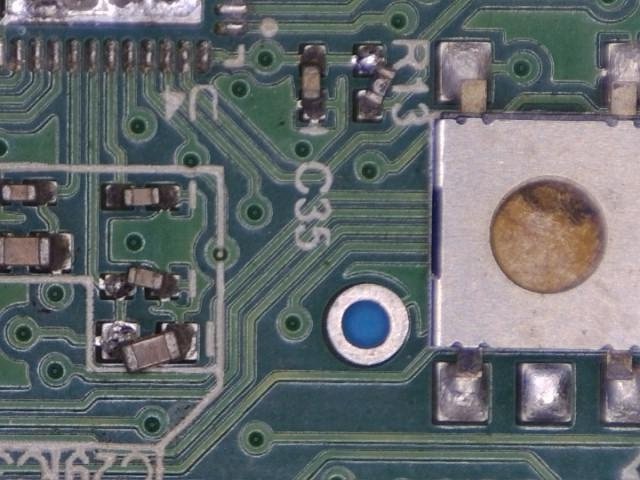pcb_defect: (101, 322, 200, 373), (355, 43, 396, 121), (104, 267, 180, 297)
